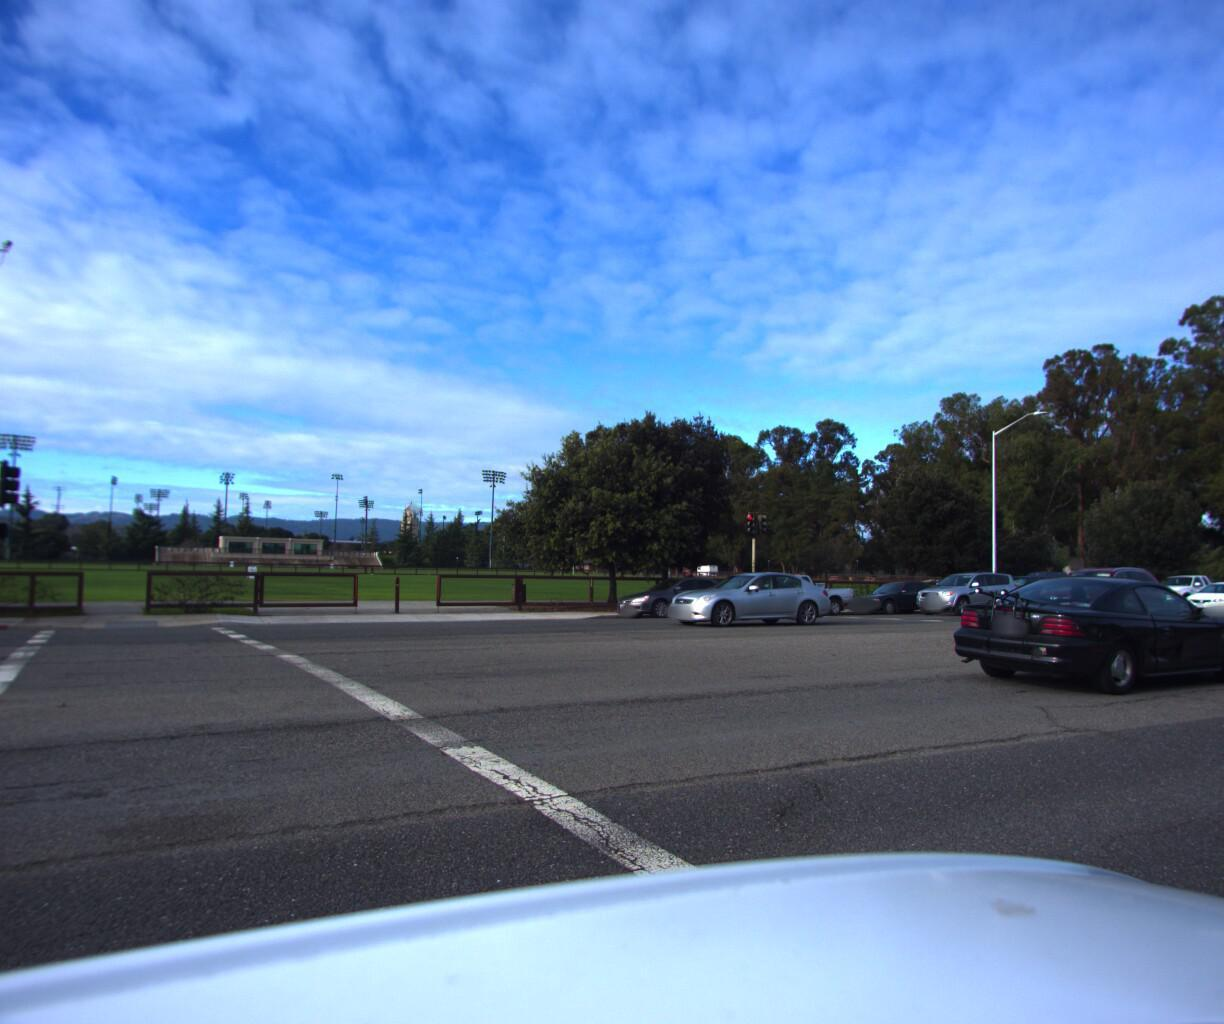car: (923, 565, 1224, 701), (665, 564, 833, 628), (1016, 560, 1178, 623), (598, 568, 755, 618), (723, 566, 863, 617), (906, 564, 1027, 612), (964, 563, 1082, 610), (837, 573, 955, 615), (1128, 565, 1224, 608), (1175, 571, 1224, 612), (1204, 567, 1224, 606)
